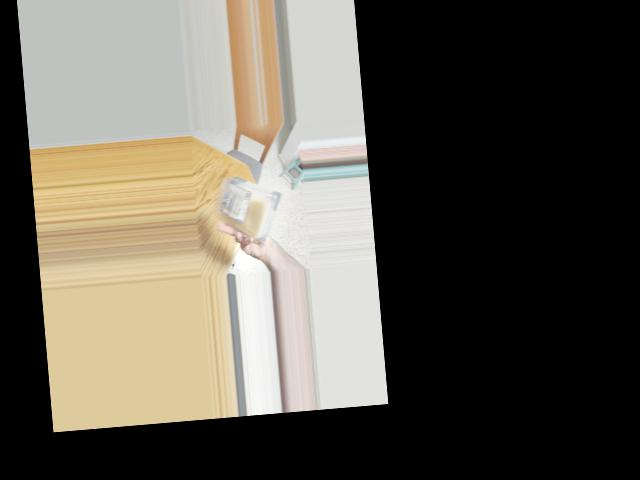cheese: (215, 173, 283, 229)
